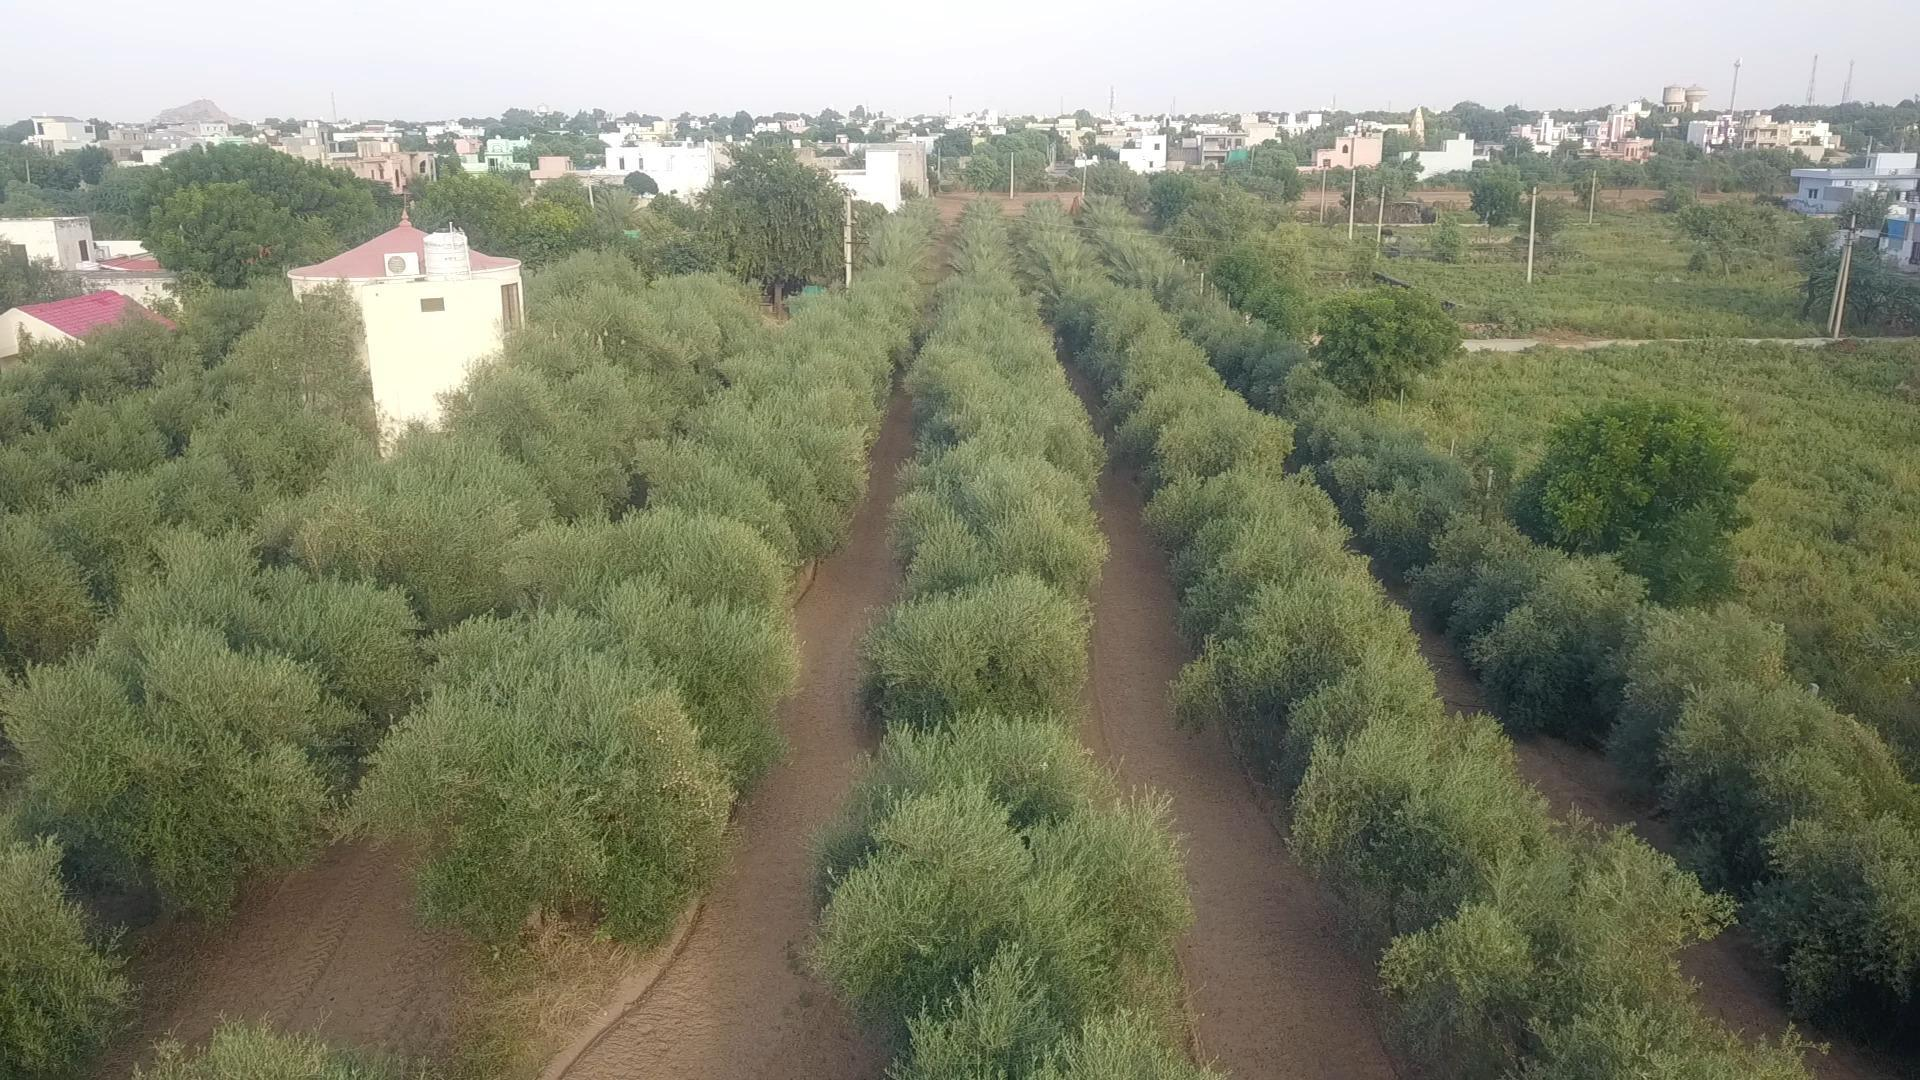canopy: (1029, 237, 1826, 1079), (1091, 236, 1919, 1010), (0, 261, 756, 911), (349, 268, 915, 939), (804, 257, 1191, 1036)
road: (541, 388, 914, 1079), (1079, 458, 1432, 1079), (1515, 735, 1904, 1079), (142, 844, 463, 1047)
